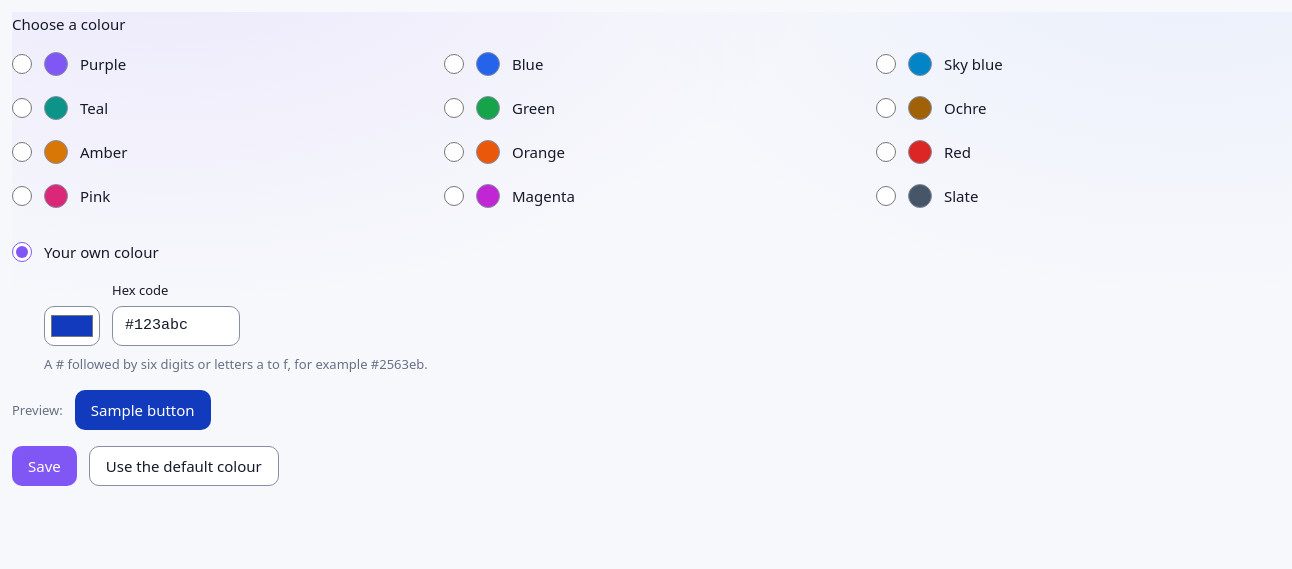
Scenario: AccentSetting › returns to the default colour
Expected: the radio button labelled "Your own colour" is checked, [12,242,32,262]
Expected: the field labelled "Hex code" holds "#123abc", [112,306,240,346]
Click the button "Use the default colour". click: (184, 466)
box: [89,446,279,486]
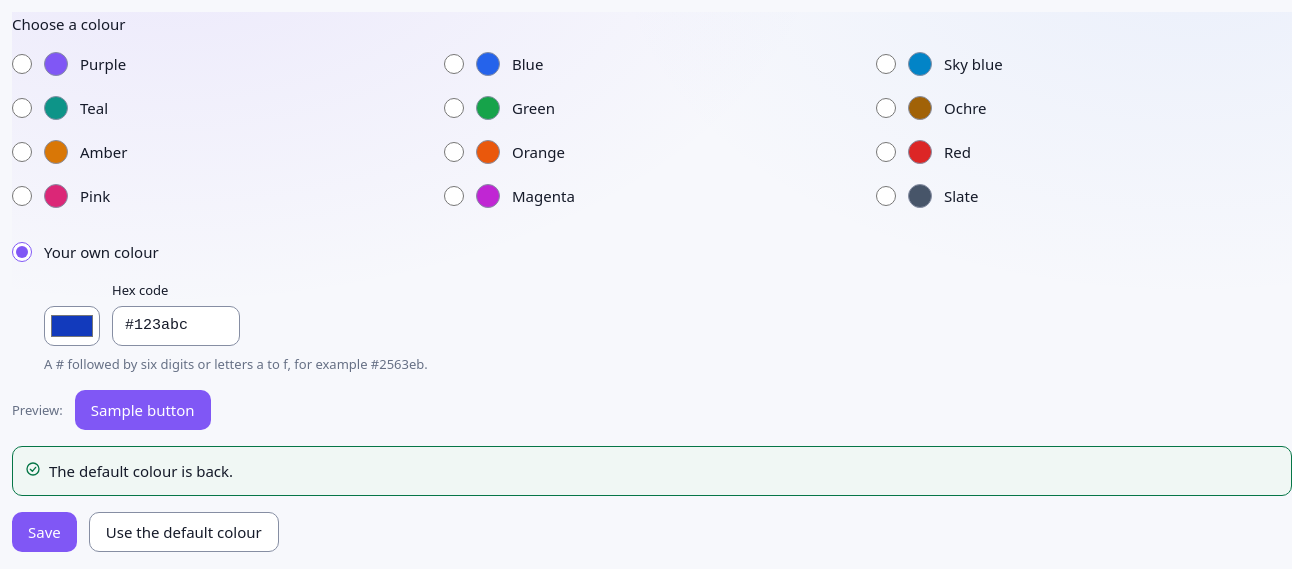
Now the text "The default colour is back." is shown, box [49,459,233,483]
